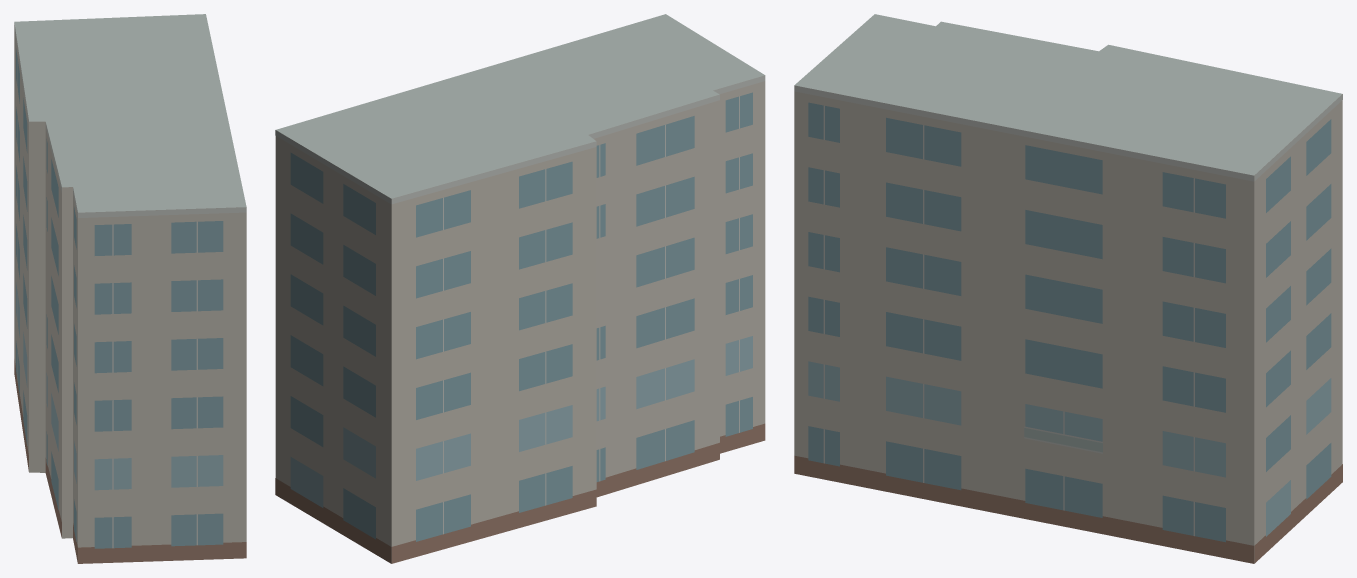
File: survey-upis-32562552.glb
The picture shows the model from 3 angles, left to right: view 1: azimuth 30°, elevation 25°; view 2: azimuth 150°, elevation 25°; view 3: azimuth 270°, elevation 25°; orthographic projection. The views are drawn at different scales.
Parts seen in each view (by area): view 1: survey-upis-32562552.tmp; view 2: survey-upis-32562552.tmp; view 3: survey-upis-32562552.tmp.
Boxes of the visible parts, box(x1,y1,x2,y2) form: survey-upis-32562552.tmp: box(14, 14, 246, 563); survey-upis-32562552.tmp: box(275, 14, 765, 563); survey-upis-32562552.tmp: box(794, 14, 1342, 563).
Bounding box in the file's own units: 14.02 × 15.7 × 20.11.
